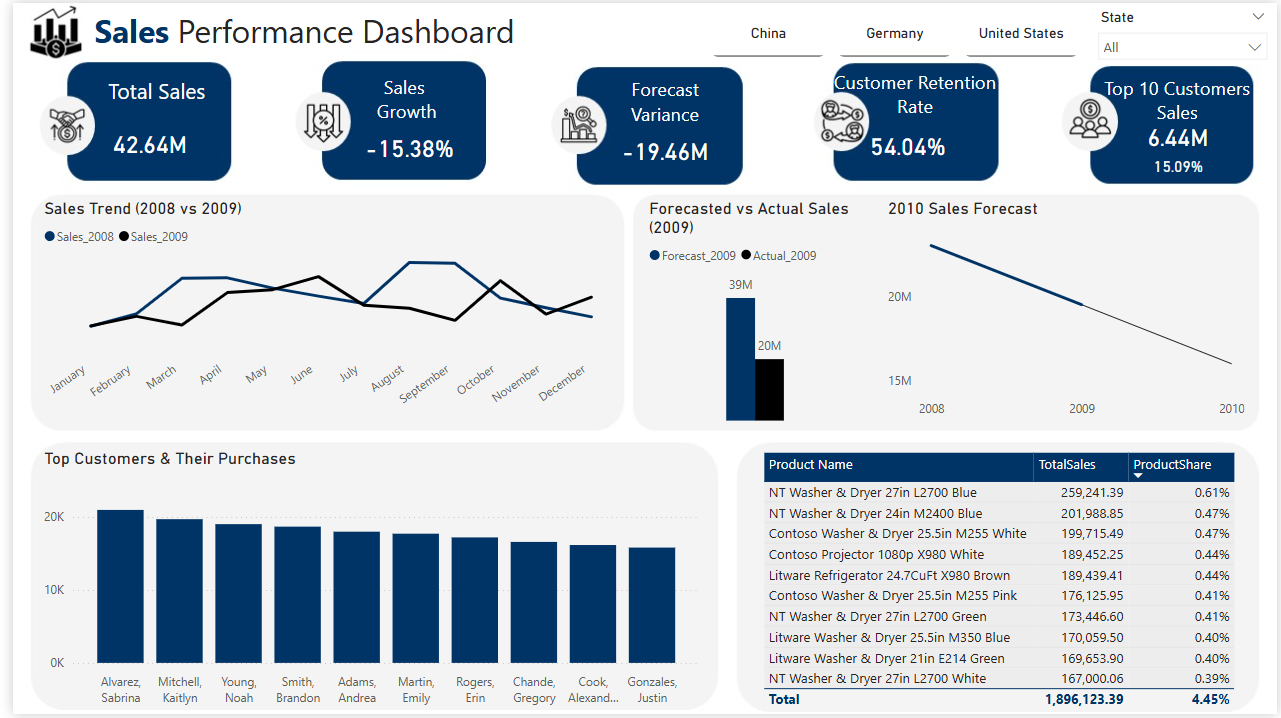

What the dashboard file says about the page in this screenshot:
{"tool":"powerbi","page":{"name":"Page 1","canvas":[1280,720],"ordinal":0},"visuals":[{"type":"cardVisual","fields":{"Data":["Calculations.TotalSales"]},"box":[76.7,105,123.3,68.3],"z":0},{"type":"cardVisual","fields":{"Data":["Calculations.% Diff_Sales"]},"box":[330.3,109.2,142.1,60.5],"z":1000},{"type":"tableEx","fields":{"Values":["Products.Product Name","Calculations.TotalSales","Calculations.ProductShare"]},"box":[754.5,450.9,499.1,269.1],"z":2000},{"type":"clusteredColumnChart","title":"Forecasted vs Actual Sales (2009)","fields":{"Y":["Calculations.Forecast_2009","Calculations.Actual_2009"]},"box":[639.5,197.4,228.9,231.6],"z":3000},{"type":"lineChart","title":"Sales Trend (2008 vs 2009) ","fields":{"Category":["Date.Date.Variation.Date Hierarchy.Year","Date.Date.Variation.Date Hierarchy.Quarter","Date.Date.Variation.Date Hierarchy.Month","Date.Date.Variation.Date Hierarchy.Day"],"Y":["Calculations.Sales_2008","Calculations.Sales_2009"]},"box":[26.2,197.5,582.5,231.2],"z":4000},{"type":"clusteredColumnChart","title":"Top Customers & Their Purchases","fields":{"Y":["Calculations.TotalSales"],"Category":["Customers.Name"]},"box":[26.2,451.2,673.8,268.8],"z":5000},{"type":"advancedSlicerVisual","fields":{"Values":["Customers.CountryRegion"]},"box":[699.4,0,389,60.1],"z":6000},{"type":"slicer","fields":{"Values":["Customers.State"]},"box":[1088.3,1.2,191.4,58.9],"z":7000},{"type":"textbox","box":[77.6,1.3,468.4,59.2],"z":8000},{"type":"cardVisual","fields":{"Data":["Calculations.Top10CustomersSales"]},"box":[1105,97,149,55],"z":9000},{"type":"cardVisual","fields":{"Data":["Calculations.Percentage of All Sales"]},"box":[1121.4,130,117.1,62.9],"z":10000},{"type":"cardVisual","fields":{"Data":["Calculations.Forecast Variance"]},"box":[591.7,103.3,138.3,85],"z":11000},{"type":"textbox","box":[76.7,70,136.7,60],"z":12000},{"type":"textbox","box":[330,66.7,136.7,66.7],"z":13000},{"type":"textbox","box":[591.7,70,138.3,66.7],"z":14000},{"type":"textbox","box":[1098,68,163,68],"z":15000},{"type":"cardVisual","fields":{"Data":["Calculations.Customer Retention Rate"]},"box":[846.7,98.3,118.3,85],"z":16000},{"type":"textbox","box":[822.9,61.4,181.4,88.6],"z":17000},{"type":"lineChart","title":"2010 Sales Forecast","fields":{"Category":["Date.Date.Variation.Date Hierarchy.Year","Date.Date.Variation.Date Hierarchy.Quarter","Date.Date.Variation.Date Hierarchy.Month","Date.Date.Variation.Date Hierarchy.Day"],"Y":["Calculations.TotalSales"]},"box":[881.6,197.4,371.1,231.6],"z":18000}]}

Visuals, with their boxes in screenshot pixels (x1, y1, x2, y2), scaled from the page's 1280x720 canvas onto the 1281x718 screenshot:
cardVisual - Calculations.TotalSales: locate(77, 105, 200, 173)
cardVisual - Calculations.% Diff_Sales: locate(331, 109, 473, 169)
tableEx - Products.Product Name x Calculations.TotalSales: locate(755, 450, 1255, 717)
"Forecasted vs Actual Sales (2009)" clusteredColumnChart: locate(640, 197, 869, 428)
"Sales Trend (2008 vs 2009) " lineChart: locate(26, 197, 609, 428)
"Top Customers & Their Purchases" clusteredColumnChart: locate(26, 450, 701, 717)
advancedSlicerVisual - Customers.CountryRegion: locate(700, 0, 1089, 60)
slicer - Customers.State: locate(1089, 1, 1280, 60)
textbox: locate(78, 1, 546, 60)
cardVisual - Calculations.Top10CustomersSales: locate(1106, 97, 1255, 152)
cardVisual - Calculations.Percentage of All Sales: locate(1122, 130, 1239, 192)
cardVisual - Calculations.Forecast Variance: locate(592, 103, 731, 188)
textbox: locate(77, 70, 214, 130)
textbox: locate(330, 67, 467, 133)
textbox: locate(592, 70, 731, 136)
textbox: locate(1099, 68, 1262, 136)
cardVisual - Calculations.Customer Retention Rate: locate(847, 98, 966, 183)
textbox: locate(824, 61, 1005, 150)
"2010 Sales Forecast" lineChart: locate(882, 197, 1254, 428)
